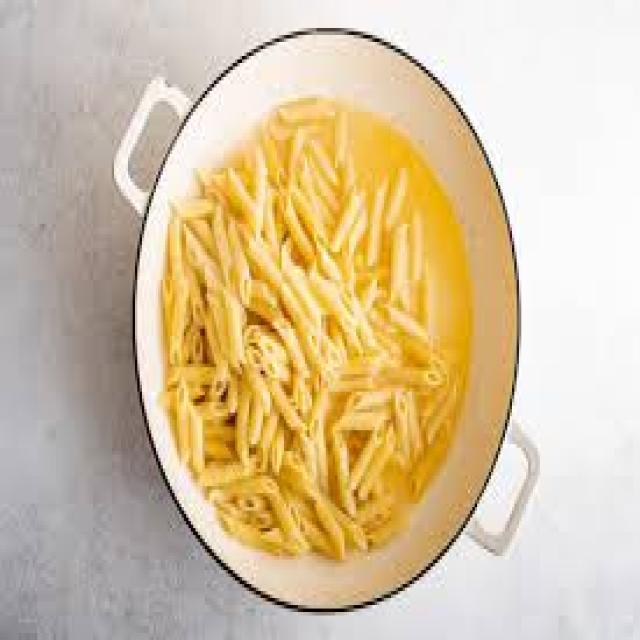pasta: (212, 205, 414, 527)
